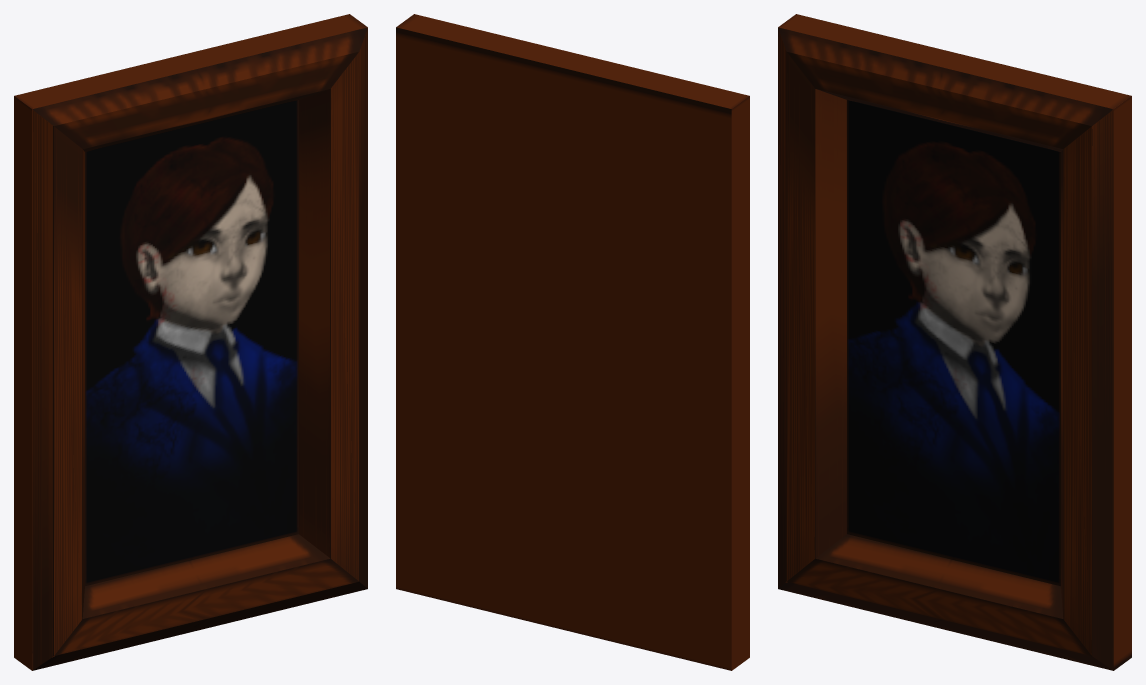
File: pintura.fbx
The picture shows the model from 3 angles, left to right: view 1: azimuth 30°, elevation 25°; view 2: azimuth 150°, elevation 25°; view 3: azimuth 330°, elevation 25°; orthographic projection.
Parts seen in each view (by area): view 1: Cube; view 2: Cube; view 3: Cube.
Part boxes in pixels (x1=…): Cube: x1=14, y1=14, x2=367, y2=670; Cube: x1=396, y1=14, x2=749, y2=670; Cube: x1=778, y1=14, x2=1131, y2=670.
Size of the model in its own units: 357 by 571 by 45.63.
